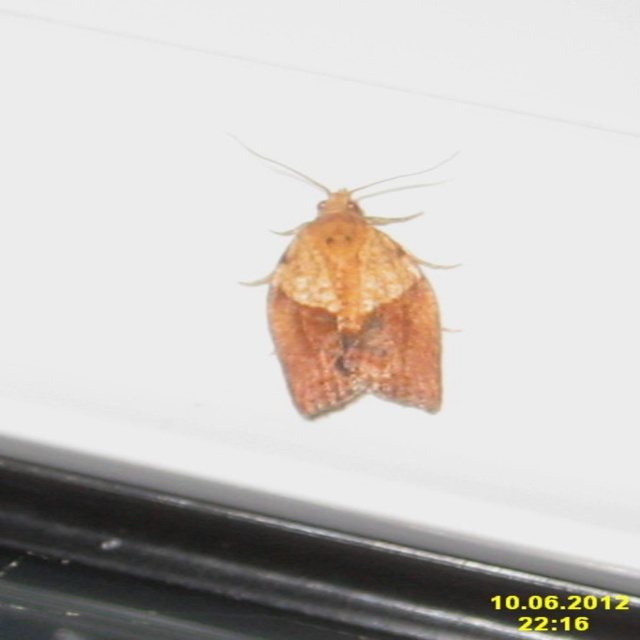Moths and butterflies: (212, 129, 466, 418)
